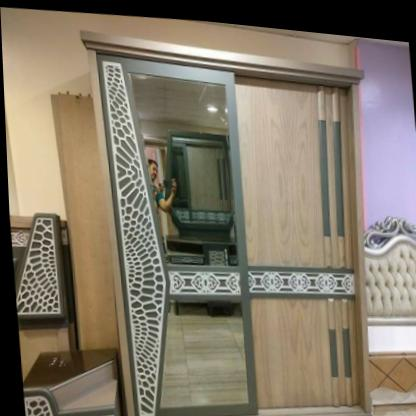Closet: (80, 32, 369, 416)
